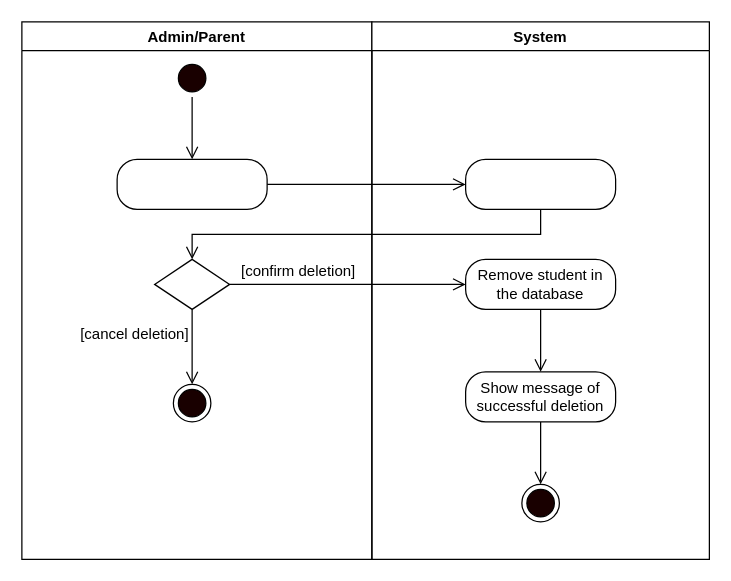
Image size: 731x581. Some labels were removed from this diagram. The box of each missing label's shape, as (x1, y1, x2, y2) in pixels:
Delete student: (116, 158, 267, 209)
Display prompt: (464, 158, 616, 209)
